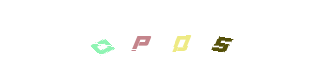0: (104, 0, 184, 80)
5: (182, 0, 262, 80)
D: (120, 0, 200, 80)
P: (119, 0, 199, 80)
